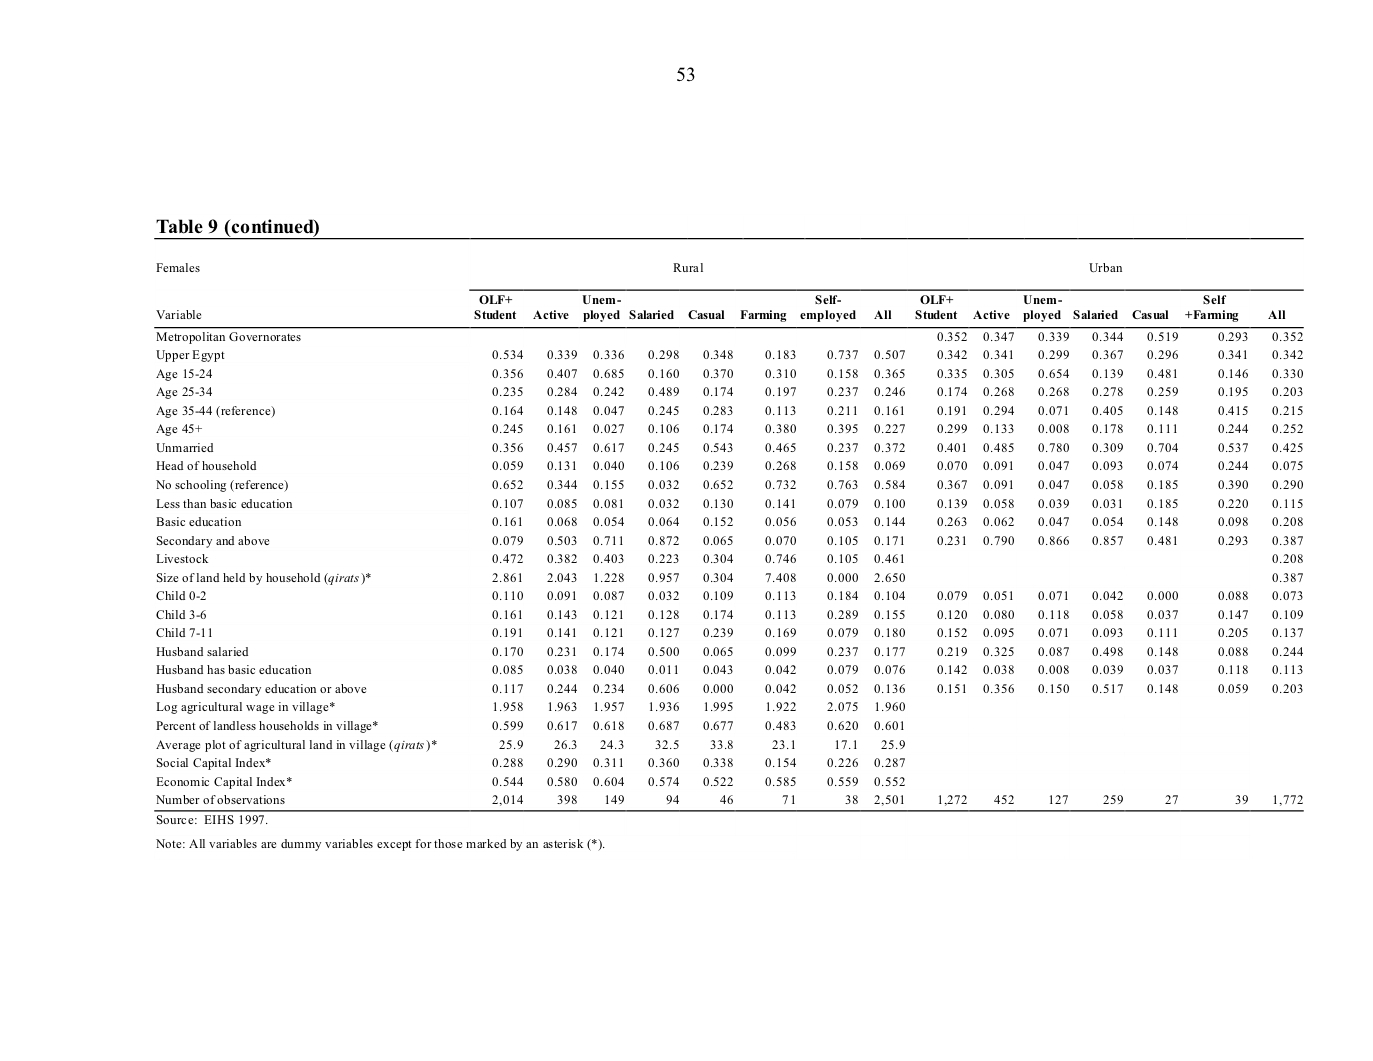Table: (154, 239, 1303, 811)
